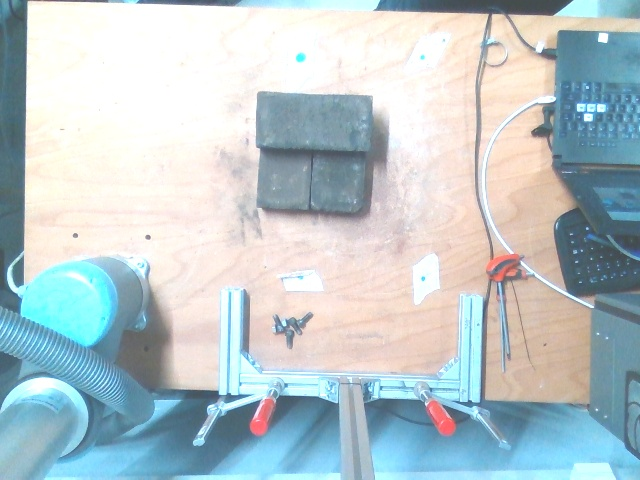brick: (257, 91, 370, 152)
